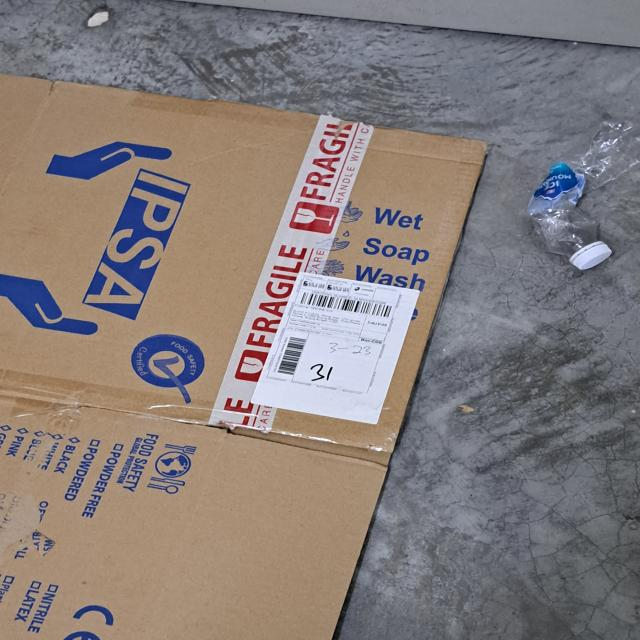cardboard: (0, 71, 488, 640)
plastic bottle: (526, 119, 640, 255)
plastic bottle cap: (569, 243, 614, 270)
